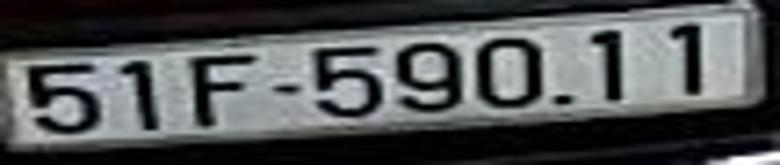-: (275, 82, 295, 93)
.: (556, 94, 571, 103)
0: (480, 39, 543, 107)
1: (123, 63, 158, 130), (673, 23, 702, 97), (595, 31, 622, 101)
5: (29, 64, 98, 135), (318, 49, 383, 114)
9: (400, 44, 461, 114)
F: (191, 57, 255, 127)
